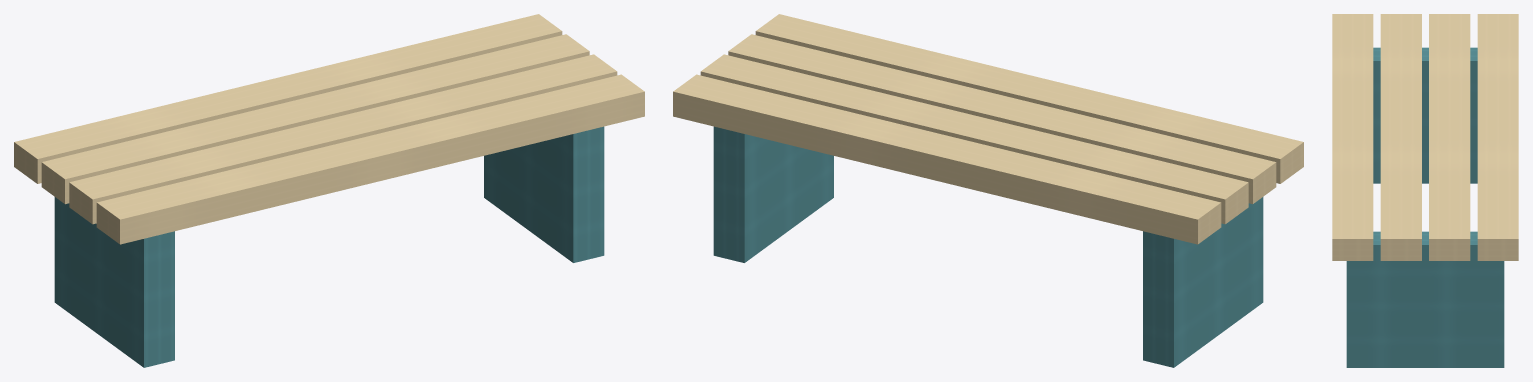
The model's file is atlas100-atompunk-util03.glb.
3 views of the same model, side by side, from view 1: azimuth 30°, elevation 25°; view 2: azimuth 150°, elevation 25°; view 3: azimuth 270°, elevation 25° (orthographic). The views are drawn at different scales.
Parts seen in each view (by area): view 1: atlas100-atompunk-util03:part-005, atlas100-atompunk-util03:part-003, atlas100-atompunk-util03:part-002, atlas100-atompunk-util03:part-004, atlas100-atompunk-util03:part-000, atlas100-atompunk-util03:part-001; view 2: atlas100-atompunk-util03:part-002, atlas100-atompunk-util03:part-004, atlas100-atompunk-util03:part-003, atlas100-atompunk-util03:part-005, atlas100-atompunk-util03:part-000, atlas100-atompunk-util03:part-001; view 3: atlas100-atompunk-util03:part-001, atlas100-atompunk-util03:part-002, atlas100-atompunk-util03:part-003, atlas100-atompunk-util03:part-004, atlas100-atompunk-util03:part-005, atlas100-atompunk-util03:part-000.
Boxes of the visible parts, left/top/right/bottom form: atlas100-atompunk-util03:part-005: left=96, top=74, right=644, bottom=244; atlas100-atompunk-util03:part-003: left=41, top=34, right=589, bottom=204; atlas100-atompunk-util03:part-002: left=14, top=14, right=562, bottom=183; atlas100-atompunk-util03:part-004: left=69, top=54, right=617, bottom=224; atlas100-atompunk-util03:part-000: left=54, top=197, right=174, bottom=367; atlas100-atompunk-util03:part-001: left=484, top=126, right=604, bottom=262; atlas100-atompunk-util03:part-002: left=673, top=74, right=1221, bottom=244; atlas100-atompunk-util03:part-004: left=728, top=34, right=1276, bottom=204; atlas100-atompunk-util03:part-003: left=700, top=54, right=1248, bottom=224; atlas100-atompunk-util03:part-005: left=755, top=14, right=1303, bottom=183; atlas100-atompunk-util03:part-000: left=1143, top=197, right=1263, bottom=367; atlas100-atompunk-util03:part-001: left=713, top=126, right=833, bottom=262; atlas100-atompunk-util03:part-001: left=1346, top=231, right=1504, bottom=367; atlas100-atompunk-util03:part-002: left=1477, top=14, right=1518, bottom=260; atlas100-atompunk-util03:part-003: left=1429, top=14, right=1470, bottom=260; atlas100-atompunk-util03:part-004: left=1380, top=14, right=1421, bottom=260; atlas100-atompunk-util03:part-005: left=1332, top=14, right=1373, bottom=260; atlas100-atompunk-util03:part-000: left=1373, top=47, right=1477, bottom=183.
Bounding box in the file's own units: 2.3 × 0.6799 × 0.8054.
2 materials, 2 textured.
